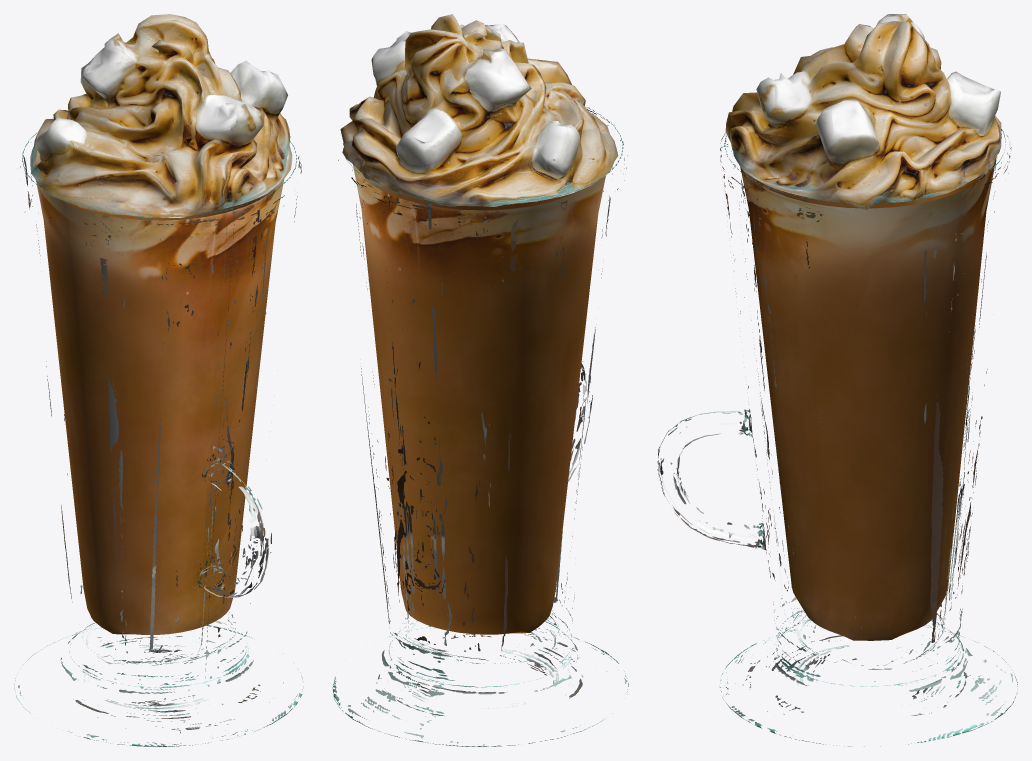
File: uploads_files_3255476_Double+Hot+Chocolate.FBX
3 renders of one model, left to right at view 1: azimuth 30°, elevation 25°; view 2: azimuth 150°, elevation 25°; view 3: azimuth 270°, elevation 25°, orthographic. The views are drawn at different scales.
Visible parts, largest first — view 1: 003, Object001; view 2: 003, Object001; view 3: 003, Object001.
Boxes of the visible parts, <box> form: 003: <box>30,14,292,634</box>; Object001: <box>14,133,303,746</box>; 003: <box>340,14,618,634</box>; Object001: <box>332,107,628,746</box>; 003: <box>725,14,1001,640</box>; Object001: <box>657,129,1017,746</box>.
Bounding box in the file's own units: 7.26 × 18.12 × 8.79.
Materials: 2 (2 with a texture image).
